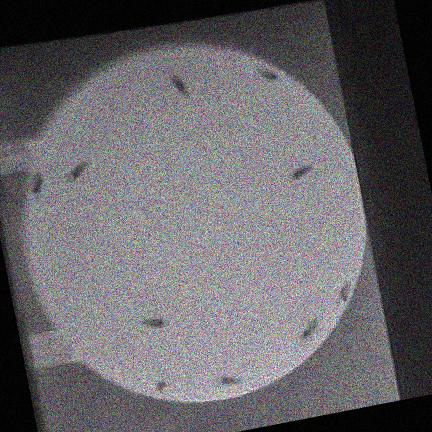fly: (67, 160, 88, 182), (300, 319, 320, 340), (170, 73, 188, 96), (290, 164, 312, 180), (31, 173, 43, 198), (257, 67, 278, 81), (142, 317, 168, 328), (341, 282, 351, 301), (220, 376, 241, 385), (156, 380, 169, 392)
